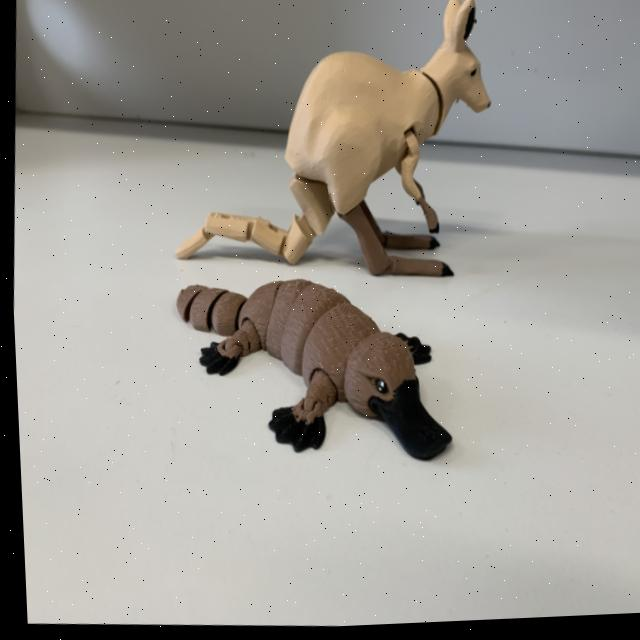kangaroo: (153, 0, 511, 306)
platypus: (154, 257, 448, 486)
